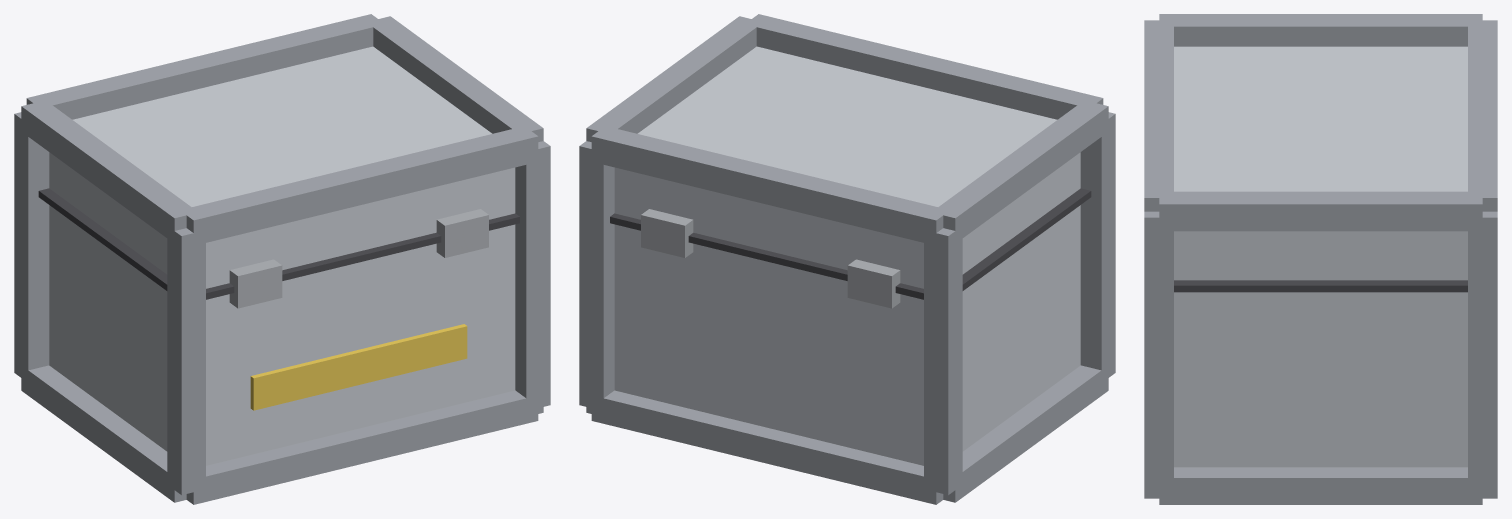
File: prop_crate_large.glb
3 renders of one model, left to right at view 1: azimuth 30°, elevation 25°; view 2: azimuth 150°, elevation 25°; view 3: azimuth 270°, elevation 25°, orthographic. The views are drawn at different scales.
Visible parts, largest first — view 1: prop_crate_large; view 2: prop_crate_large; view 3: prop_crate_large.
Boxes of the visible parts, left/top/right/bottom form: prop_crate_large: left=14, top=14, right=550, bottom=504; prop_crate_large: left=579, top=14, right=1115, bottom=504; prop_crate_large: left=1144, top=14, right=1497, bottom=504.
Size of the model in its own units: 0.835 by 0.615 by 0.655.
